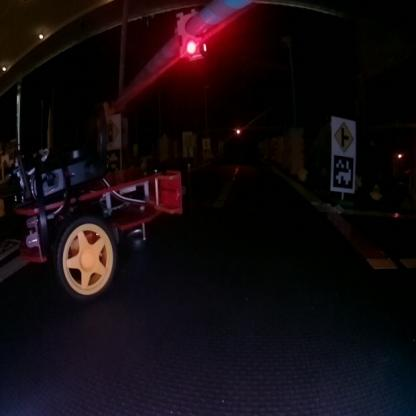duckiebot: (3, 103, 202, 306)
